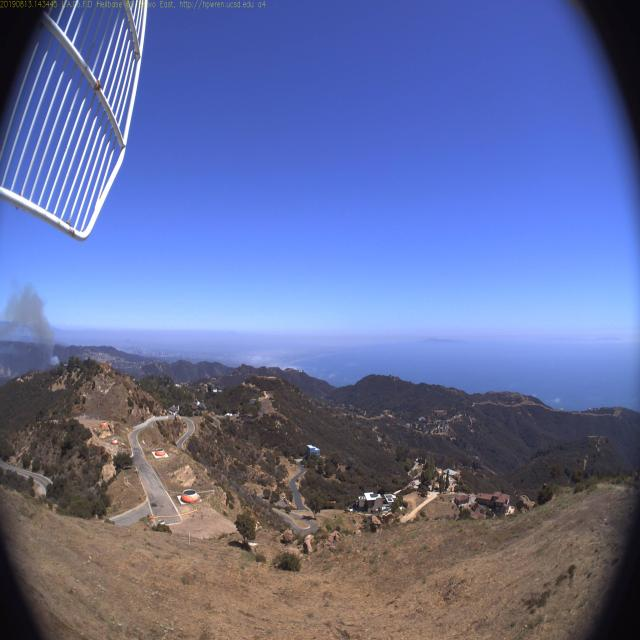smoke: (28, 325, 74, 383)
